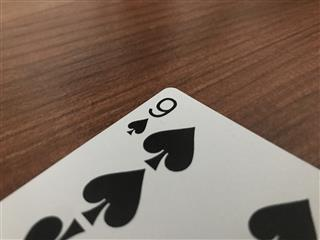NineOfSpades: (1, 85, 320, 240)
